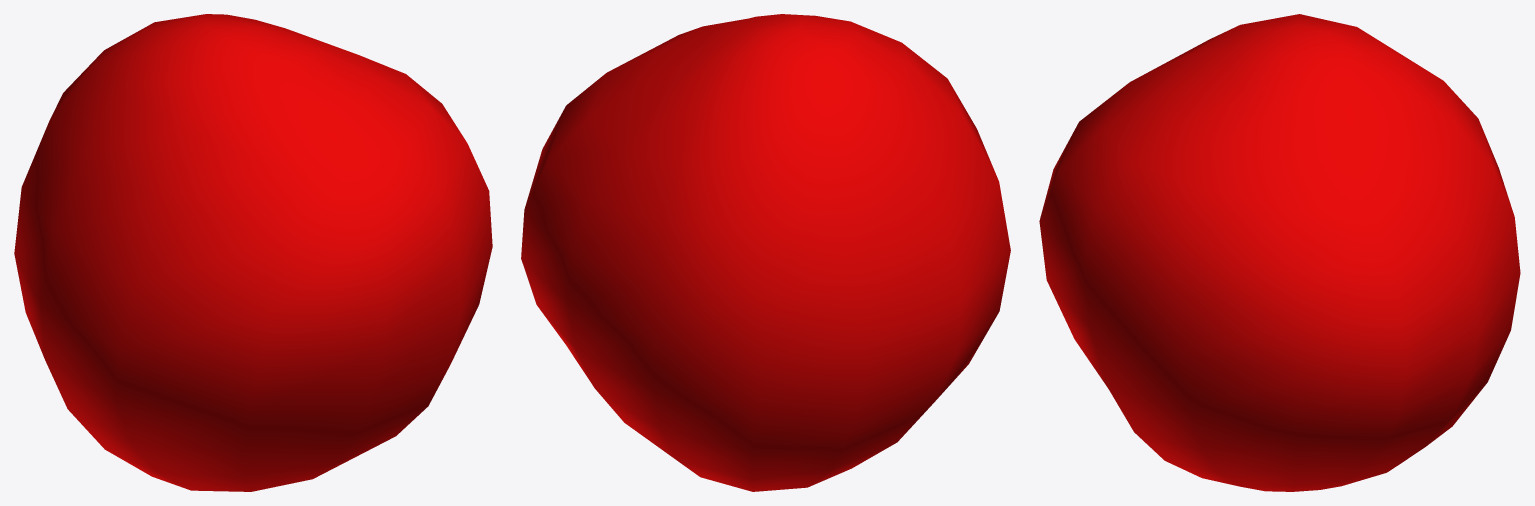
The model's file is OrbShooter_orb_mesh (1).fbx.
3 renders of one model, left to right at view 1: azimuth 30°, elevation 25°; view 2: azimuth 150°, elevation 25°; view 3: azimuth 270°, elevation 25°, orthographic. The views are drawn at different scales.
Visible parts, largest first — view 1: Orb_mesh; view 2: Orb_mesh; view 3: Orb_mesh.
Boxes of the visible parts, x1,y1,x2,y2 form: Orb_mesh: (14, 14, 492, 491); Orb_mesh: (521, 14, 1010, 491); Orb_mesh: (1039, 14, 1520, 491).
Size of the model in its own units: 11.38 by 11.51 by 11.38.
